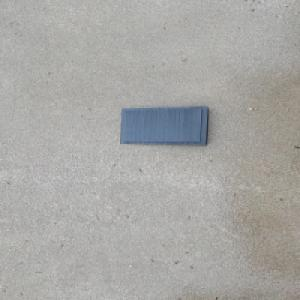PlasticPart: (117, 105, 210, 146)
